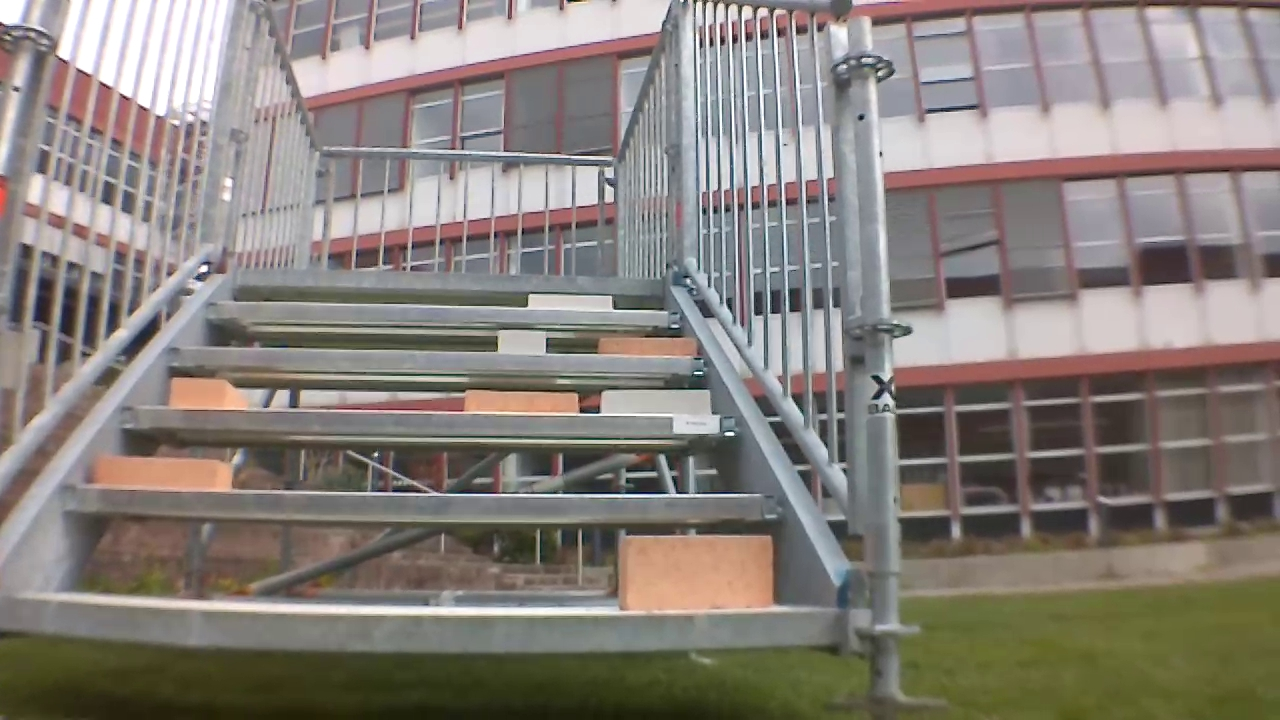brick: (609, 528, 778, 607), (94, 451, 235, 484), (459, 387, 587, 411), (594, 387, 721, 411), (590, 333, 701, 354), (165, 382, 244, 408), (524, 289, 613, 310), (493, 329, 555, 354)
edge: (0, 605, 844, 641), (61, 492, 783, 520), (167, 341, 707, 374), (117, 413, 743, 436), (203, 298, 683, 326), (222, 274, 666, 295)
stairs: (0, 0, 898, 714)
steps: (0, 268, 890, 659)
